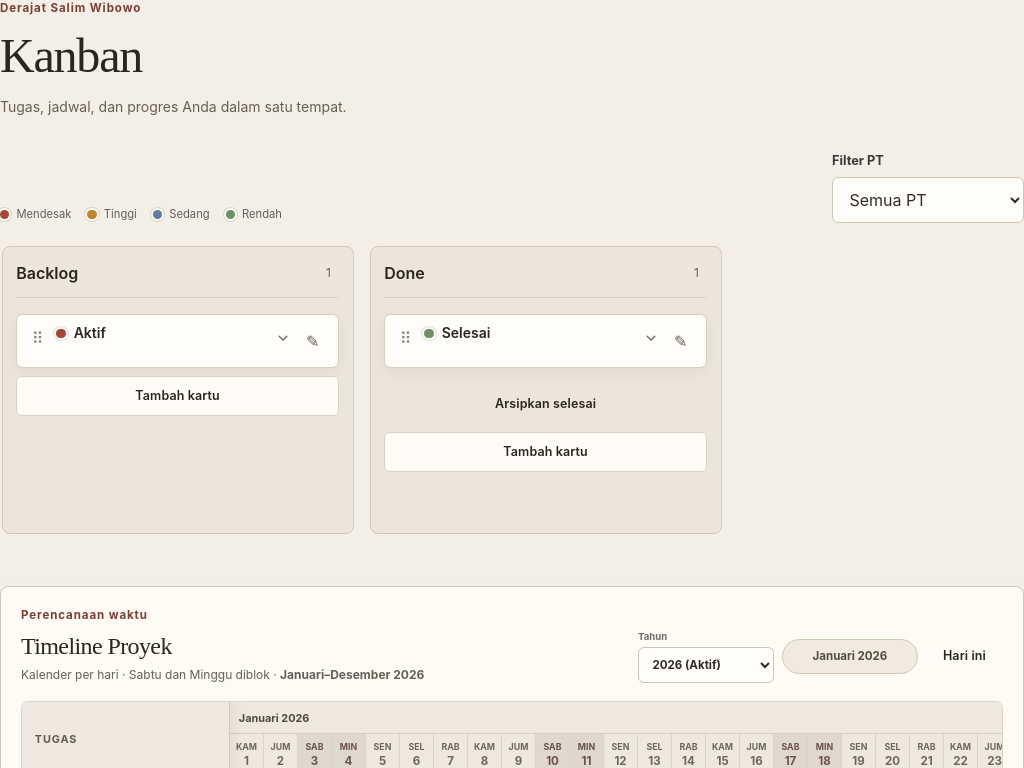
it: Kanban global › menampilkan arsip dan dashboard interaktif dengan filter
Click the button with aria-label "Arsipkan semua tugas Done" at (546, 404), box 384,384 -> 707,424
(page scrolled)
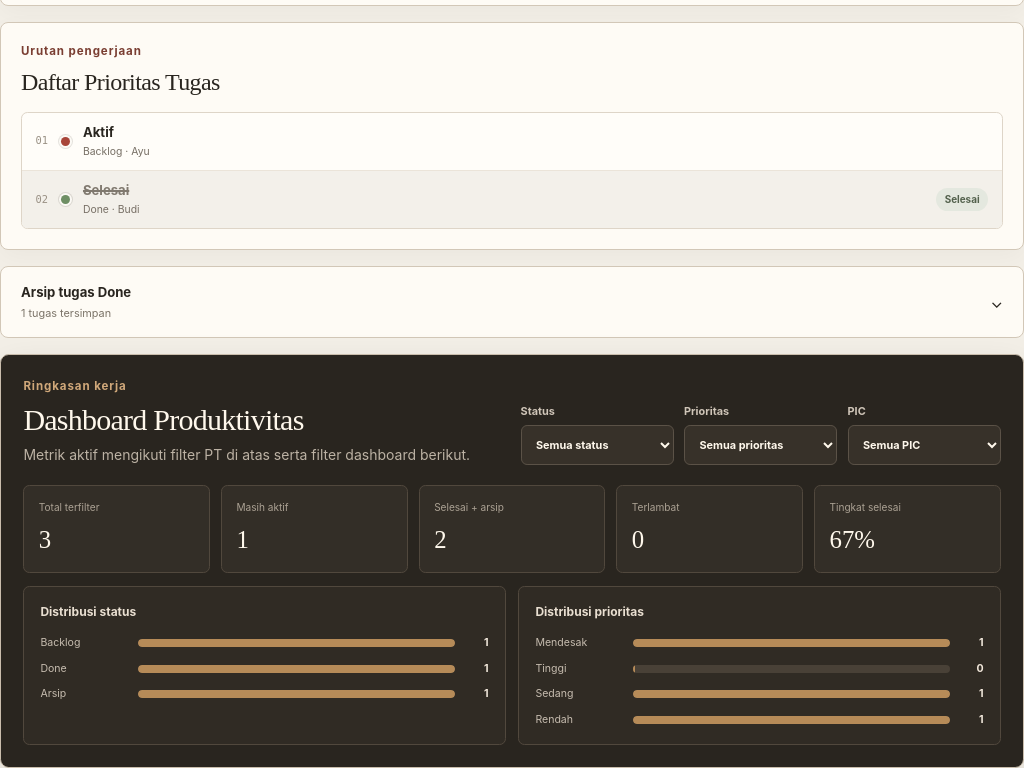
Expected: the heading "Dashboard Produktivitas" is shown, 23,403 -> 304,436
Expected: the dropdown named "Filter status dashboard" shows "Semua status", 521,425 -> 674,465
Select "Ayu" in the dropdown named "Filter PIC dashboard" at (924, 445), box 848,425 -> 1001,465
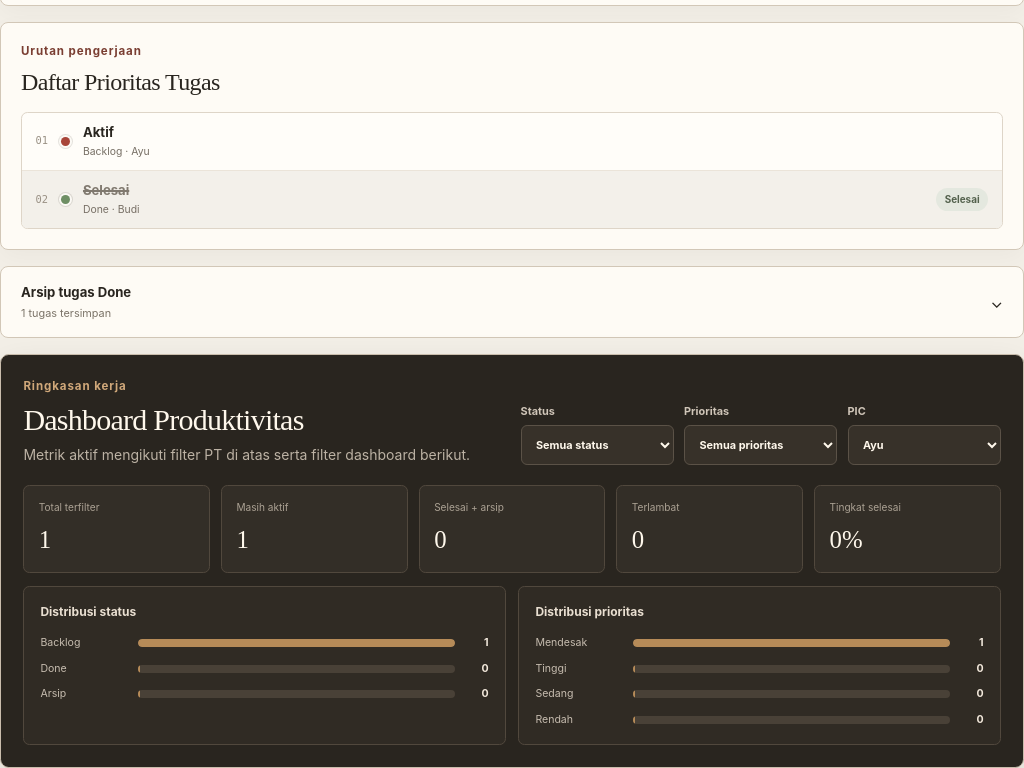
Expected: the text with test id "dashboard-total" reads "1", 39,526 -> 51,553
